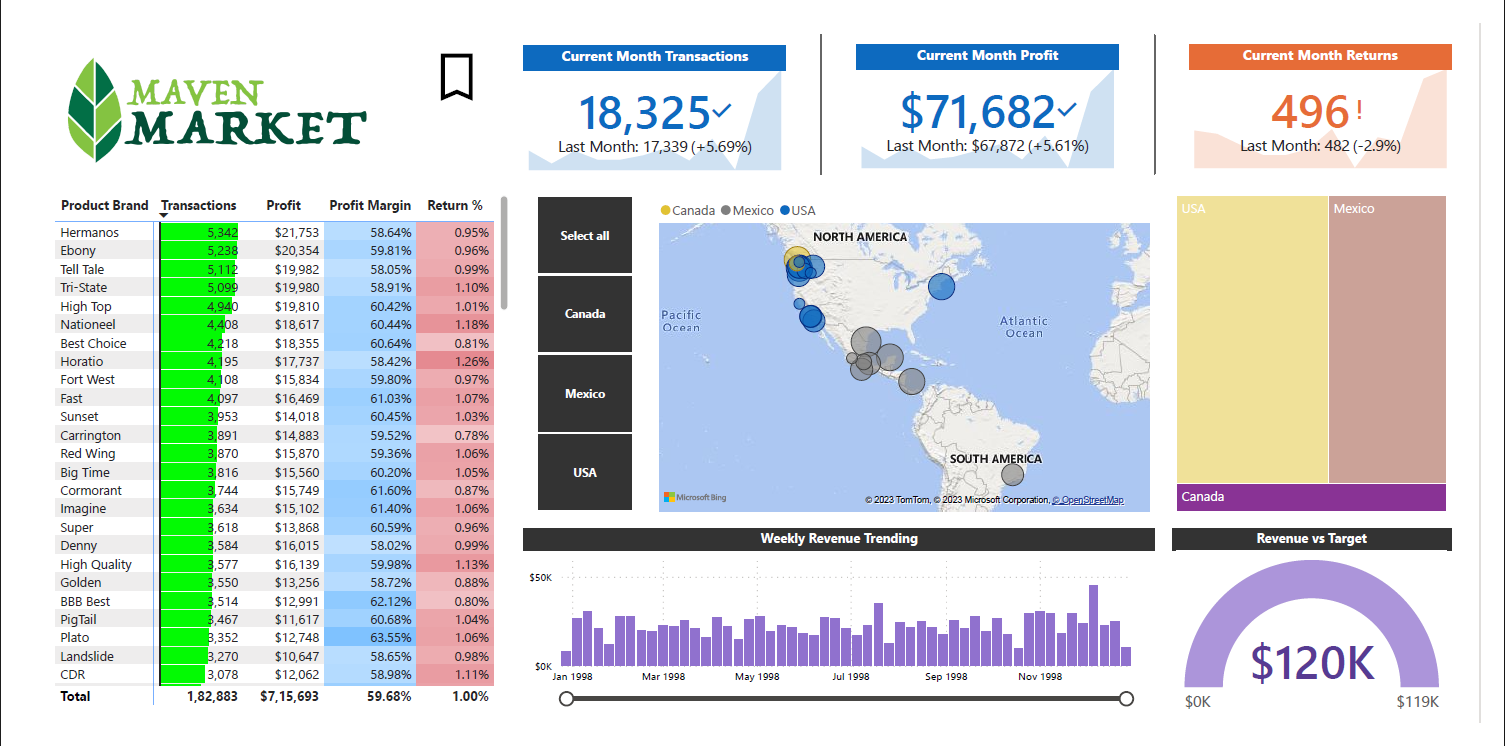

What the dashboard file says about the page in this screenshot:
{"tool":"powerbi","page":{"name":"Topline Performance","canvas":[1500,720],"ordinal":0},"visuals":[{"type":"image","box":[26.5,22.9,341.3,132.7],"z":1000},{"type":"pivotTable","fields":{"Rows":["Products.product_brand"],"Values":["Measures Table (E) for DAX.Total Transactions","Measures Table (E) for DAX.Total Profit","Measures Table (E) for DAX.Profit Margin","Measures Table (E) for DAX.Return Rate"]},"box":[26.5,172.5,477.6,534.3],"z":2000},{"type":"kpi","title":"Current Month Transactions","fields":{"Indicator":["Measures Table (E) for DAX.Total Transactions"],"Goal":["Measures Table (E) for DAX.Last Month Transactions"],"TrendLine":["Calendar.Start of Month"]},"box":[515,22.9,270,132.7],"z":3000},{"type":"shape","box":[803.4,11.1,36.2,144.7],"z":4000},{"type":"kpi","title":"Current Month Profit","fields":{"TrendLine":["Calendar.Start of Month"],"Indicator":["Measures Table (E) for DAX.Total Profit"],"Goal":["Measures Table (E) for DAX.Last Month Profit"]},"box":[858.1,21.8,270,132.7],"z":5000},{"type":"shape","box":[1146.6,11.1,36.2,144.7],"z":6000},{"type":"kpi","title":"Current Month Returns","fields":{"TrendLine":["Calendar.Start of Month"],"Indicator":["Measures Table (E) for DAX.Total Returns"],"Goal":["Measures Table (E) for DAX.Last Month Returns"]},"box":[1201.2,21.7,270.2,132.7],"z":7000},{"type":"map","fields":{"Series":["Stores.store_country"],"Category":["Stores.store_city"],"Size":["Measures Table (E) for DAX.Total Transactions"]},"box":[650.1,172.5,515,335.3],"z":8000},{"type":"slicer","fields":{"Values":["Stores.store_country"]},"box":[504.1,172.5,145.9,335.3],"z":9000},{"type":"treemap","fields":{"Group":["Stores.store_country","Stores.store_state","Stores.store_city"],"Values":["Measures Table (E) for DAX.Total Transactions"]},"box":[1183.1,172.5,288.2,335.3],"z":10000},{"type":"gauge","title":"Revenue vs Target","fields":{"Y":["Measures Table (E) for DAX.Total Revenue"],"MaxValue":["Measures Table (E) for DAX.Revenue Target"]},"box":[1183.1,521,288.2,199],"z":11000},{"type":"columnChart","title":"Weekly Revenue Trending","fields":{"Category":["Calendar.Start of Week"],"Y":["Measures Table (E) for DAX.Total Revenue"]},"box":[515,521,650.1,185.7],"z":12000},{"type":"actionButton","box":[416.1,21.7,60.3,66.3],"z":13000}]}

Visuals, with their boxes on the page's 1500x720 design canvas (x1, y1, x2, y2). These are canvas units, not pixel positions in the 1505x746 screenshot, which may show the page scaled, cropped or inside an application window:
image: region(26, 23, 368, 156)
pivotTable - Products.product_brand x Measures Table (E) for DAX.Total Transactions: region(26, 172, 504, 707)
"Current Month Transactions" kpi: region(515, 23, 785, 156)
shape: region(803, 11, 840, 156)
"Current Month Profit" kpi: region(858, 22, 1128, 154)
shape: region(1147, 11, 1183, 156)
"Current Month Returns" kpi: region(1201, 22, 1471, 154)
map - Stores.store_country x Stores.store_city: region(650, 172, 1165, 508)
slicer - Stores.store_country: region(504, 172, 650, 508)
treemap - Stores.store_country x Stores.store_state: region(1183, 172, 1471, 508)
"Revenue vs Target" gauge: region(1183, 521, 1471, 720)
"Weekly Revenue Trending" columnChart: region(515, 521, 1165, 707)
actionButton: region(416, 22, 476, 88)
